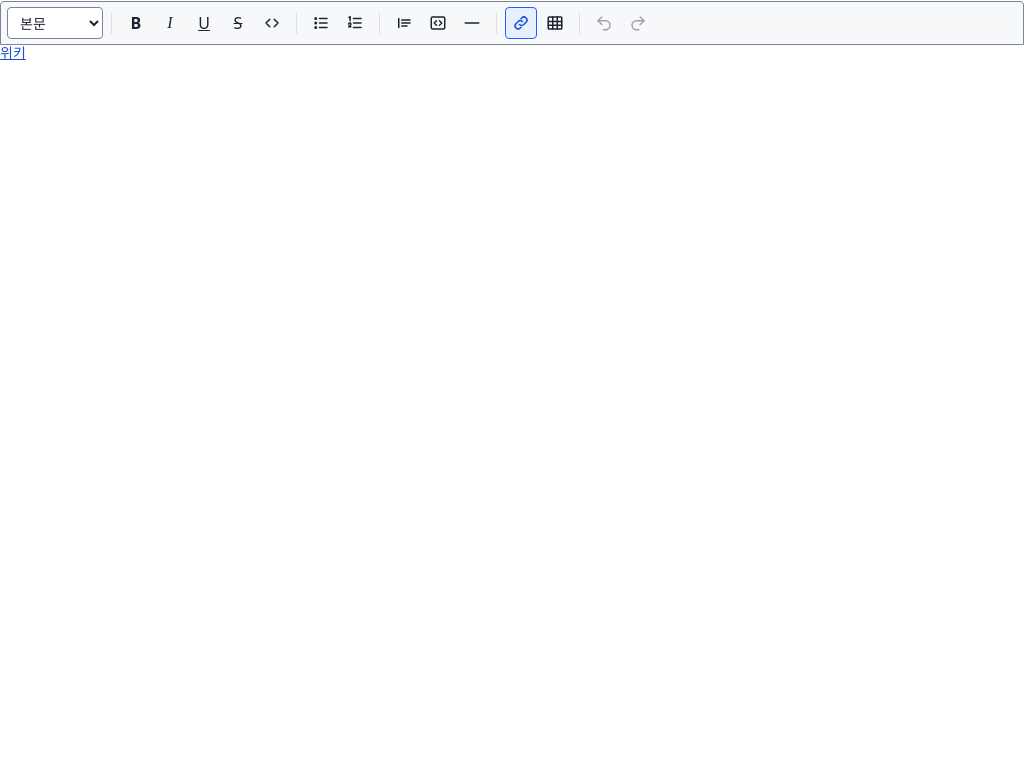
Test: FormatToolbar › **링크 위에서 열면 지금 주소가 있고 링크를 뺀다** · 본문의 Ctrl+K로도 연다
Press k in the field labelled "위키", box [0,43,26,62]
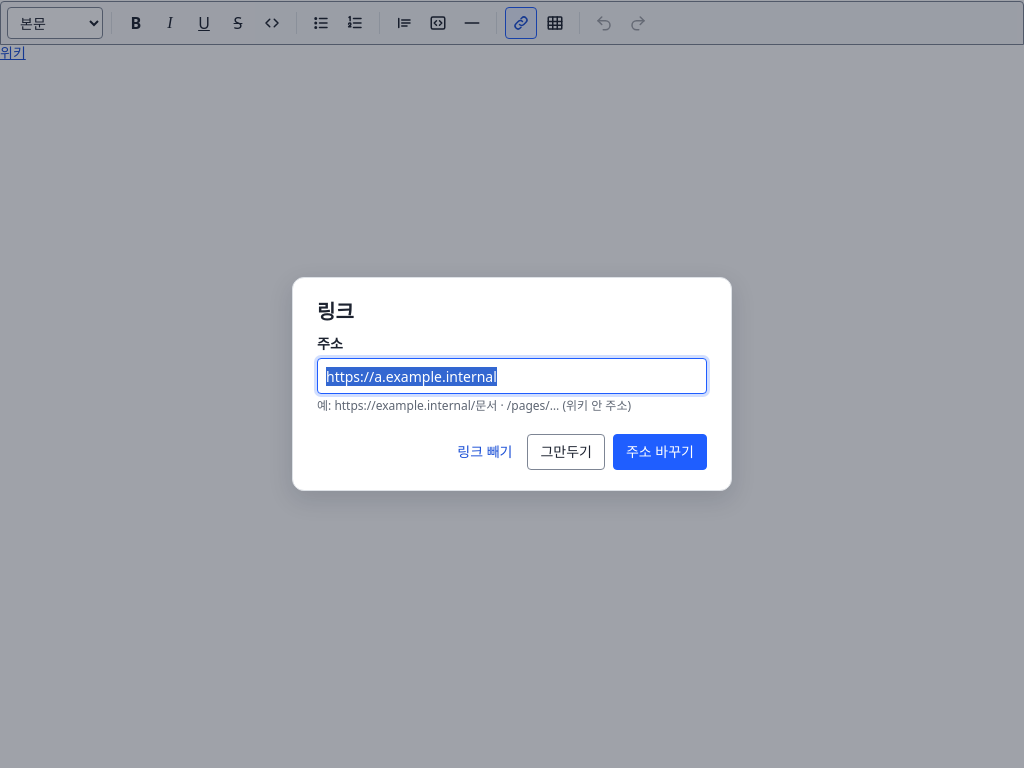
Expected: the field labelled "주소" holds "https://a.example.internal", [317,358,707,394]
Click the button "링크 빼기".
click(485, 452)  # box [450,434,520,470]
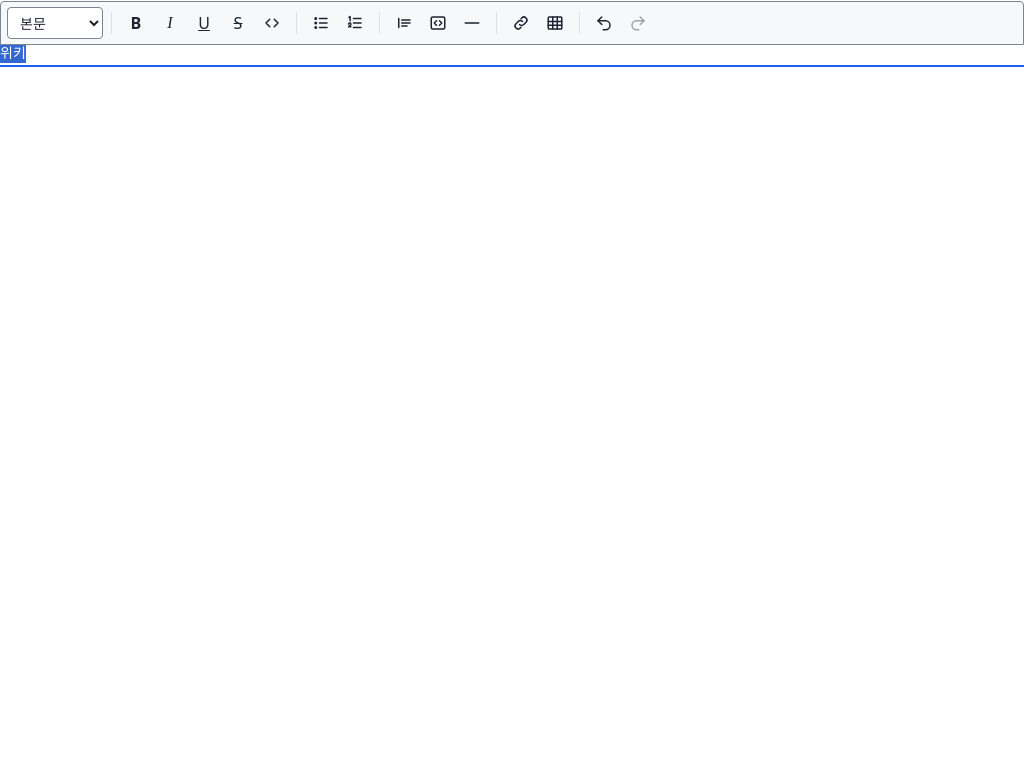
Expected: the dialog is gone
